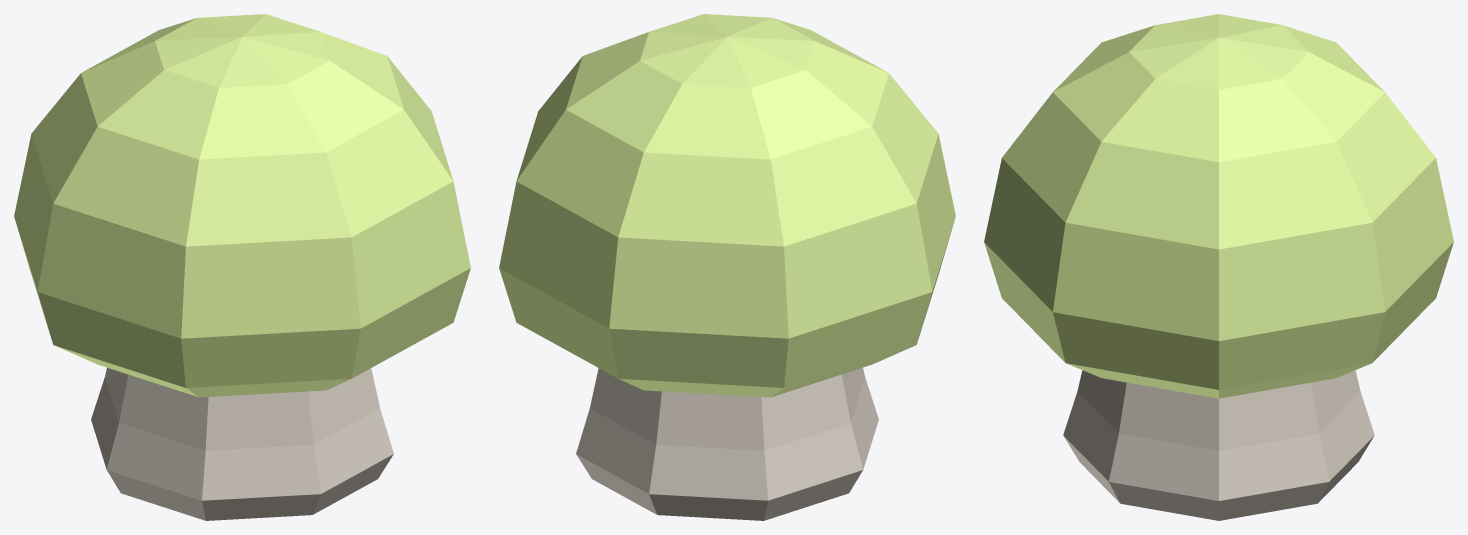
The model's file is FBX_Mushroom_Little.fbx.
The picture shows the model from 3 angles, left to right: view 1: azimuth 30°, elevation 25°; view 2: azimuth 150°, elevation 25°; view 3: azimuth 270°, elevation 25°; orthographic projection.
Parts seen in each view (by area): view 1: pSphere6; view 2: pSphere6; view 3: pSphere6.
Boxes of the visible parts, x1=… form: pSphere6: x1=14, y1=14, x2=470, y2=520; pSphere6: x1=499, y1=14, x2=955, y2=520; pSphere6: x1=984, y1=14, x2=1453, y2=520.
Size of the model in its own units: 0.8456 by 0.846 by 0.8456.
Materials: 1 (1 with a texture image).
